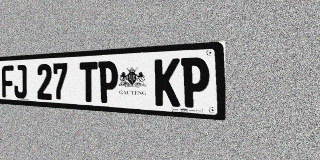2: (37, 64, 52, 100)
7: (52, 63, 68, 101)
F: (2, 65, 14, 98)
J: (14, 65, 27, 99)
K: (155, 58, 180, 107)
P: (181, 57, 209, 108), (98, 61, 118, 104)
T: (80, 62, 98, 102)
